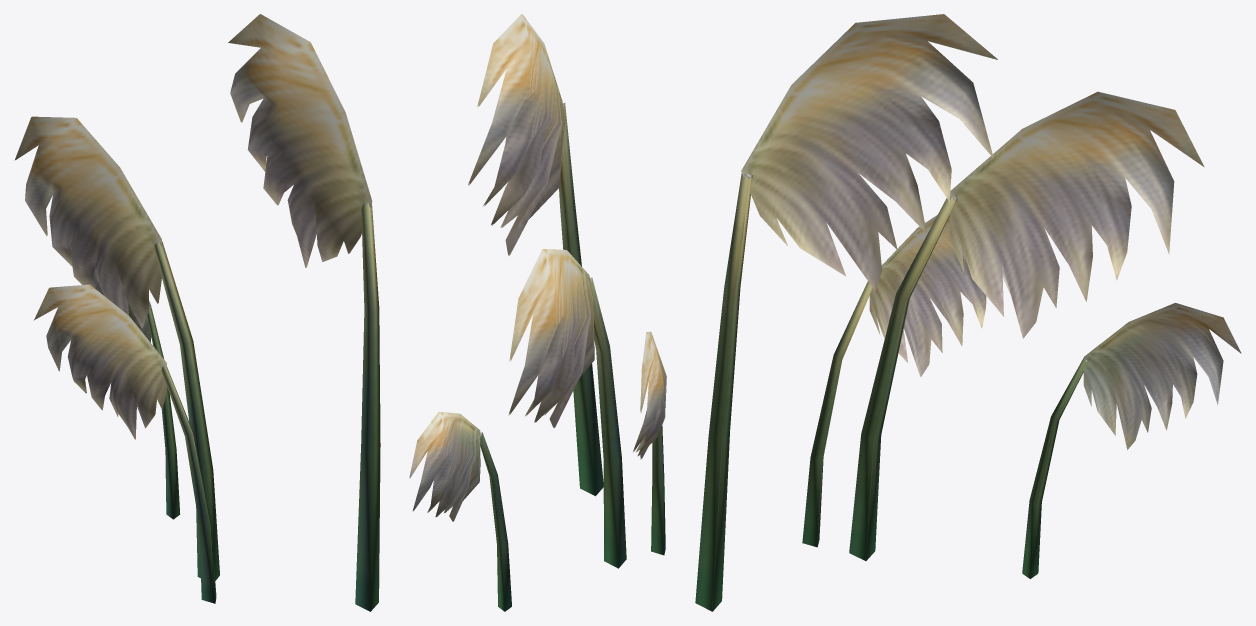
Rendered from scenes_village_plant02.FBX.
The picture shows the model from 3 angles, left to right: view 1: azimuth 30°, elevation 25°; view 2: azimuth 150°, elevation 25°; view 3: azimuth 270°, elevation 25°; orthographic projection. The views are drawn at different scales.
Parts seen in each view (by area): view 1: scenes_village_plant02; view 2: scenes_village_plant02; view 3: scenes_village_plant02.
Part boxes in pixels (left/top/right/bottom): scenes_village_plant02: left=14, top=14, right=380, bottom=611; scenes_village_plant02: left=409, top=14, right=666, bottom=611; scenes_village_plant02: left=695, top=14, right=1241, bottom=611.
Bounding box in the file's own units: 49.01 × 114 × 95.9.
